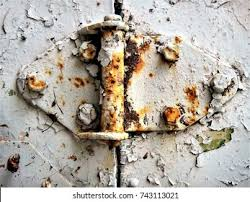rust: (70, 12, 144, 146), (157, 36, 185, 69), (159, 102, 183, 128), (4, 149, 25, 176), (181, 83, 199, 101)
